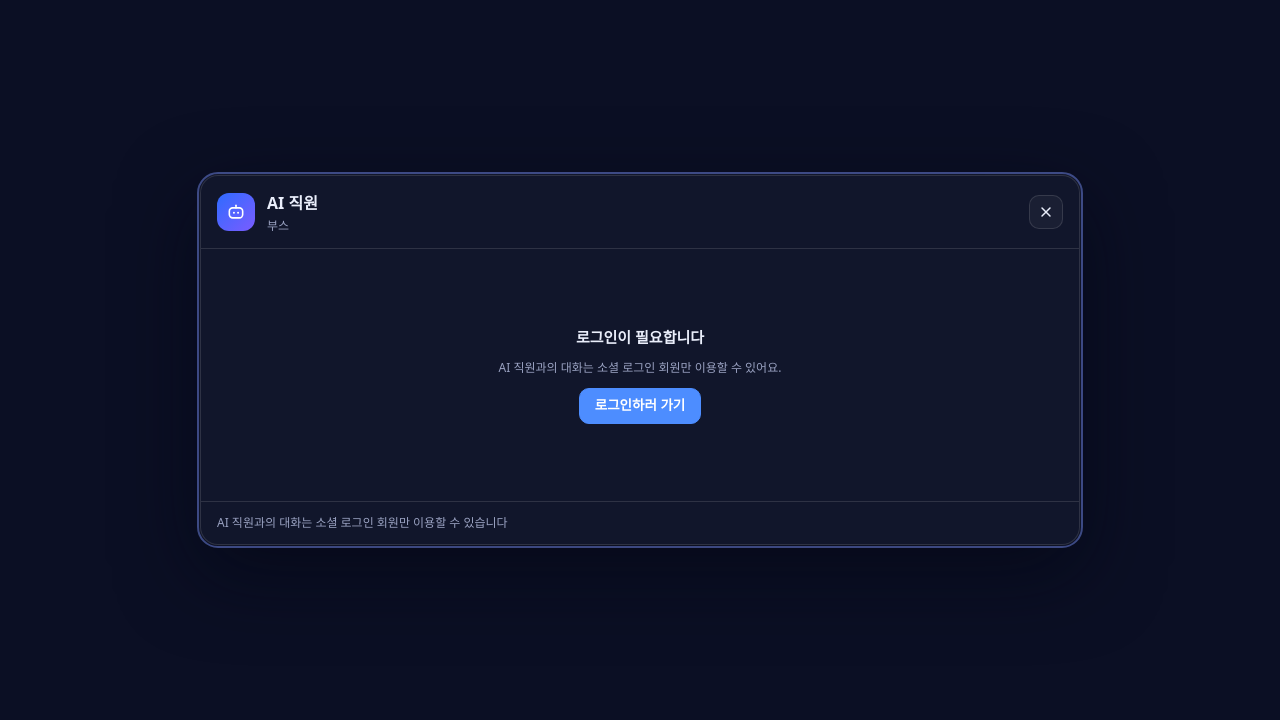
Test: AiChatOverlay 회원 접근 UI › 로그인 버튼은 현재 경로를 저장하고 로그인 화면으로 이동한다
This screenshot has width=1280, height=720.
What coordinates should you click on to do the following:
click the button "로그인하러 가기"
I would click on:
 (640, 406)
Its box is [579,388,701,424].
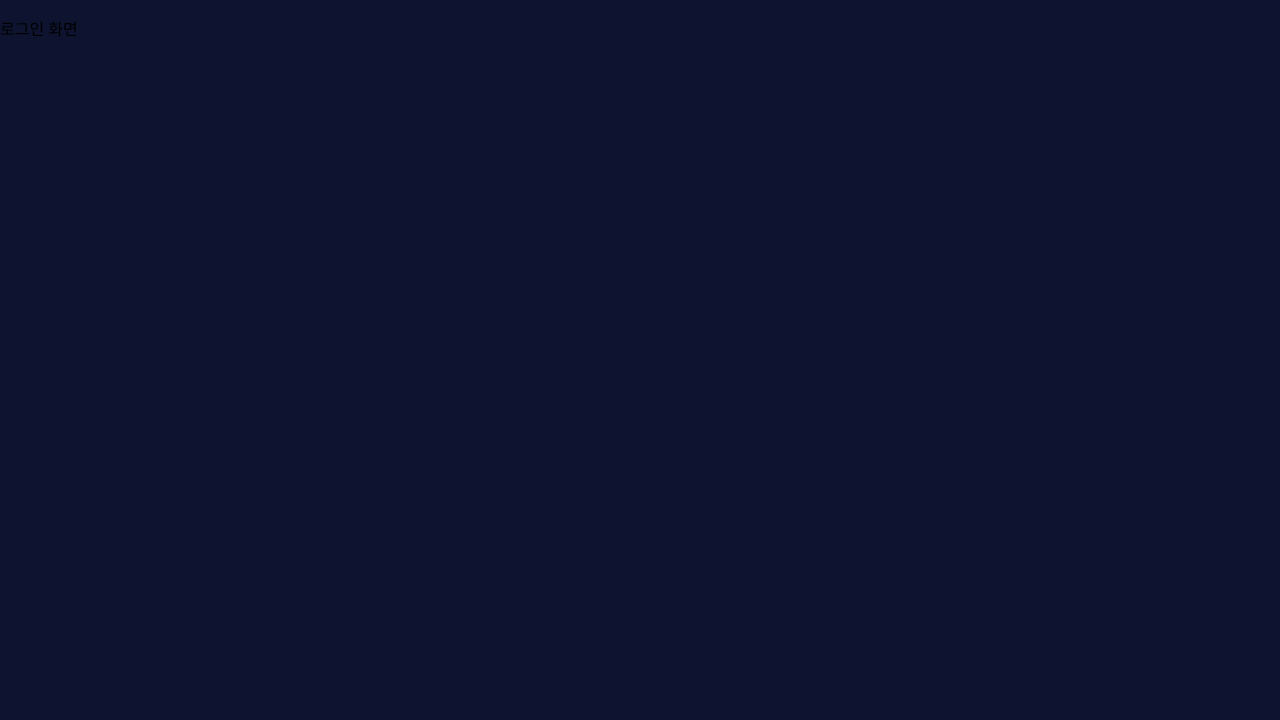
Now the text "로그인 화면" is shown, box [0,18,78,40]
